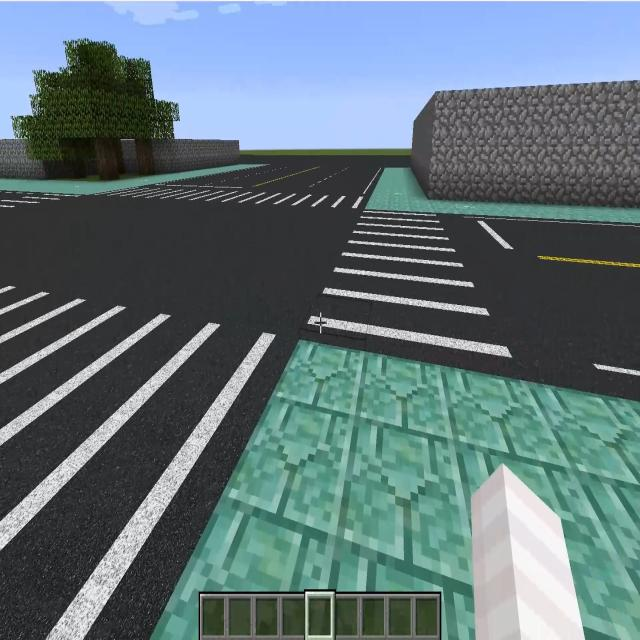crosswalk: (1, 277, 294, 639), (303, 212, 515, 370), (112, 186, 368, 205), (1, 192, 95, 214)
road: (0, 197, 361, 336), (446, 219, 638, 394), (185, 154, 410, 193)
sidewalk: (151, 342, 640, 639), (364, 167, 640, 226), (0, 164, 263, 194)
